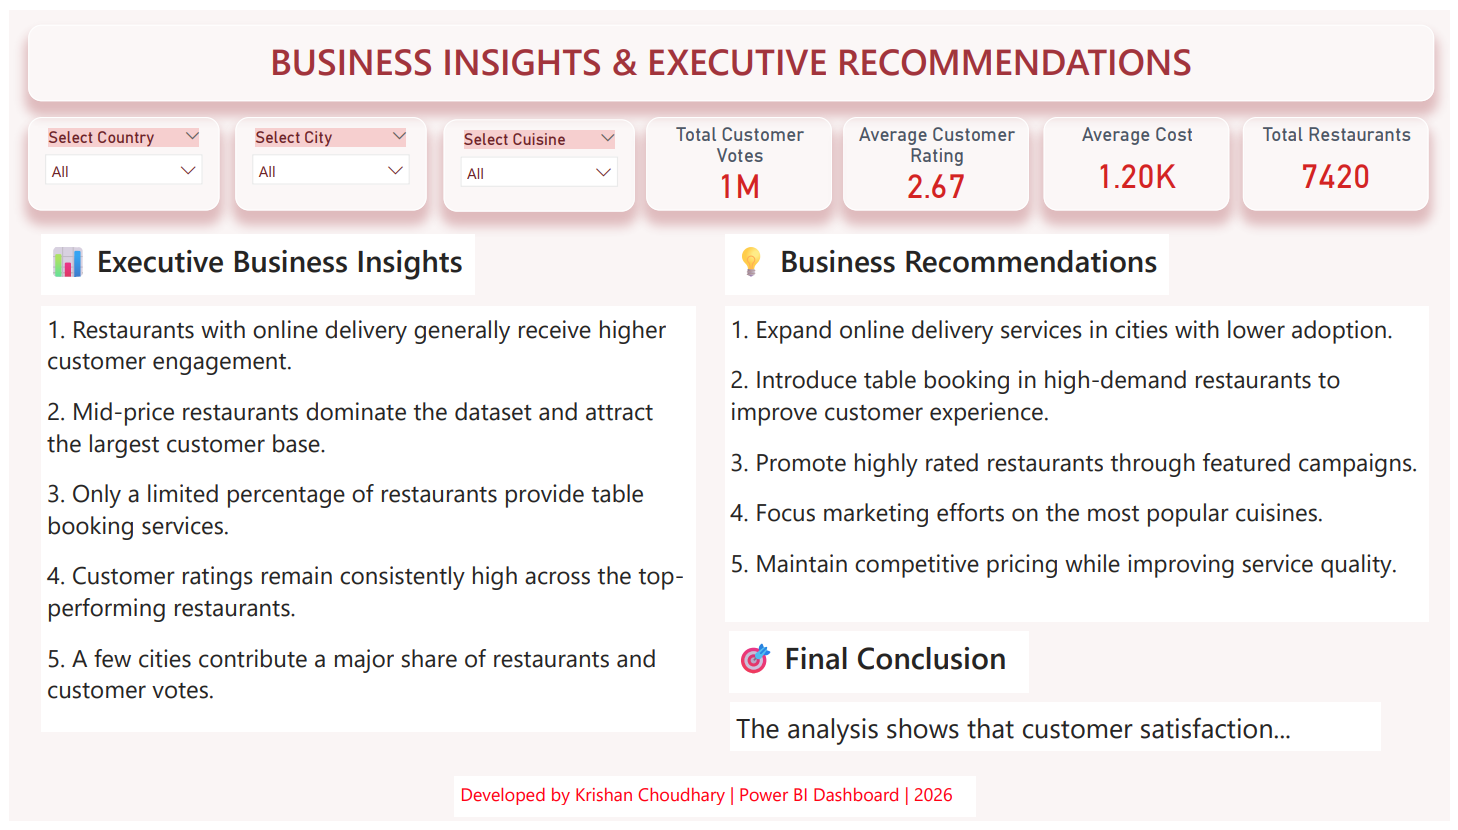

This screenshot's page, from the dashboard's own definition file:
{"tool":"powerbi","page":{"name":"BUSINESS INSIGHTS & EXECUTIVE RECOMMENDATIONS","canvas":[1280,720],"ordinal":3},"visuals":[{"type":"textbox","box":[17.4,12.8,1248.8,68.6],"z":0},{"type":"slicer","fields":{"Values":["Country.Country Name"]},"box":[17.4,95.3,169.8,82.6],"z":1000},{"type":"slicer","fields":{"Values":["Dataset  (1).City"]},"box":[201.2,95.3,169.8,82.6],"z":2000},{"type":"slicer","fields":{"Values":["Dataset  (1).Cuisines"]},"box":[386,96.5,169.8,82.6],"z":3000},{"type":"card","title":"Average Customer Rating","fields":{"Values":["Dataset  (1).Average Rating"]},"box":[741.2,95,165,82.5],"z":4000},{"type":"card","title":"Total Restaurants","fields":{"Values":["Count(Dataset  (1).Restaurant Name)"]},"box":[1096.2,95,165,82.5],"z":5000},{"type":"card","title":"Total Customer Votes","fields":{"Values":["Dataset  (1).Total Votes"]},"box":[566.2,95,165,82.5],"z":6000},{"type":"card","title":"Average Cost","fields":{"Values":["Country.Average Cost"]},"box":[918.8,95,165,82.5],"z":7000},{"type":"textbox","box":[636.2,198.8,393.8,53.8],"z":8000},{"type":"textbox","box":[28.8,262.5,581.2,378.8],"z":9000},{"type":"textbox","box":[28.8,198.8,385,53.8],"z":10000},{"type":"textbox","box":[636.2,262.5,625,280],"z":11000},{"type":"textbox","box":[640,551.2,266.2,55],"z":12000},{"type":"textbox","box":[641.2,615,577.5,42.5],"z":13000},{"type":"textbox","box":[396.2,680,462.5,36.2],"z":14000}]}

Visuals, with their boxes in screenshot pixels (x1, y1, x2, y2), scaled from the page's 1280x720 canvas onto the 1458x830 screenshot:
textbox: l=20, t=15, r=1442, b=94
slicer - Country.Country Name: l=20, t=110, r=213, b=205
slicer - Dataset  (1).City: l=229, t=110, r=423, b=205
slicer - Dataset  (1).Cuisines: l=440, t=111, r=633, b=206
"Average Customer Rating" card: l=844, t=110, r=1032, b=205
"Total Restaurants" card: l=1249, t=110, r=1437, b=205
"Total Customer Votes" card: l=645, t=110, r=833, b=205
"Average Cost" card: l=1047, t=110, r=1235, b=205
textbox: l=725, t=229, r=1173, b=291
textbox: l=33, t=303, r=695, b=739
textbox: l=33, t=229, r=471, b=291
textbox: l=725, t=303, r=1437, b=625
textbox: l=729, t=635, r=1032, b=699
textbox: l=730, t=709, r=1388, b=758
textbox: l=451, t=784, r=978, b=826
